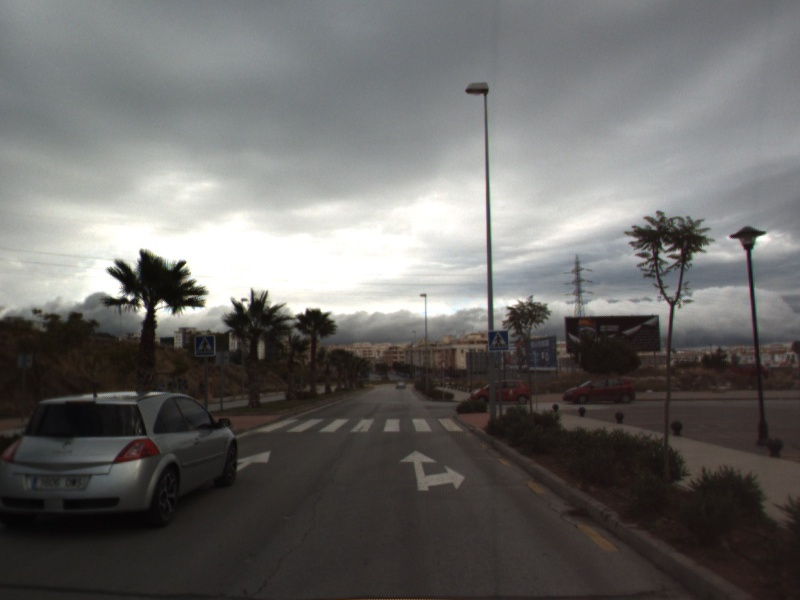STRAIGHT: (236, 448, 273, 472)
STRAIGHT_RIGHT: (397, 448, 467, 493)
